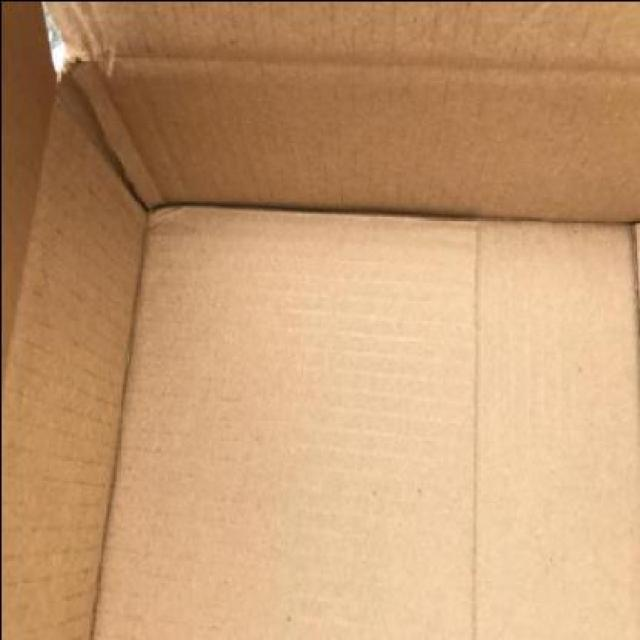CARDBOARD: (1, 1, 638, 638), (91, 206, 640, 640)
